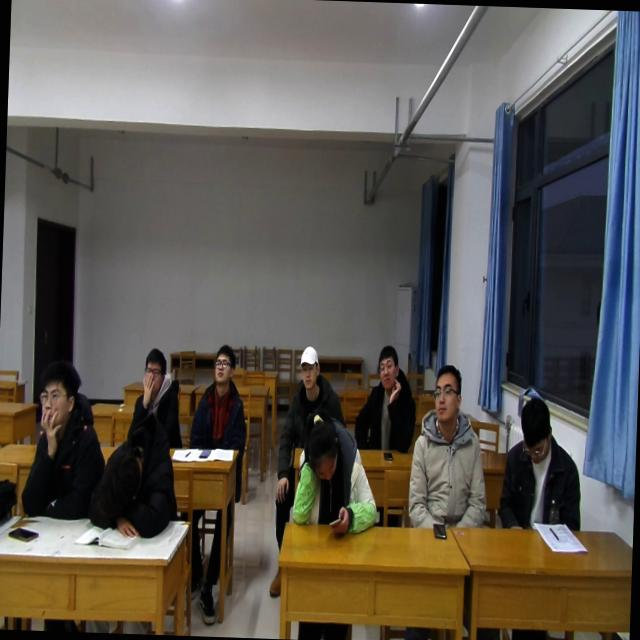bow: (83, 404, 184, 542), (288, 411, 382, 539)
down: (512, 390, 556, 464), (302, 413, 341, 482)
lookup: (34, 351, 80, 438), (428, 356, 464, 425), (373, 338, 404, 396), (296, 340, 328, 393), (139, 342, 167, 398), (208, 336, 235, 385)
sit: (406, 360, 494, 534), (20, 350, 109, 522), (494, 391, 588, 535), (352, 342, 421, 456), (279, 341, 347, 450), (187, 336, 250, 452), (124, 344, 186, 452)
